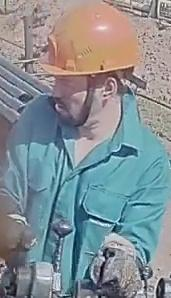gloves: (88, 230, 147, 297), (0, 205, 38, 260)
helmet: (38, 1, 139, 85)
vest: (0, 87, 170, 297)
